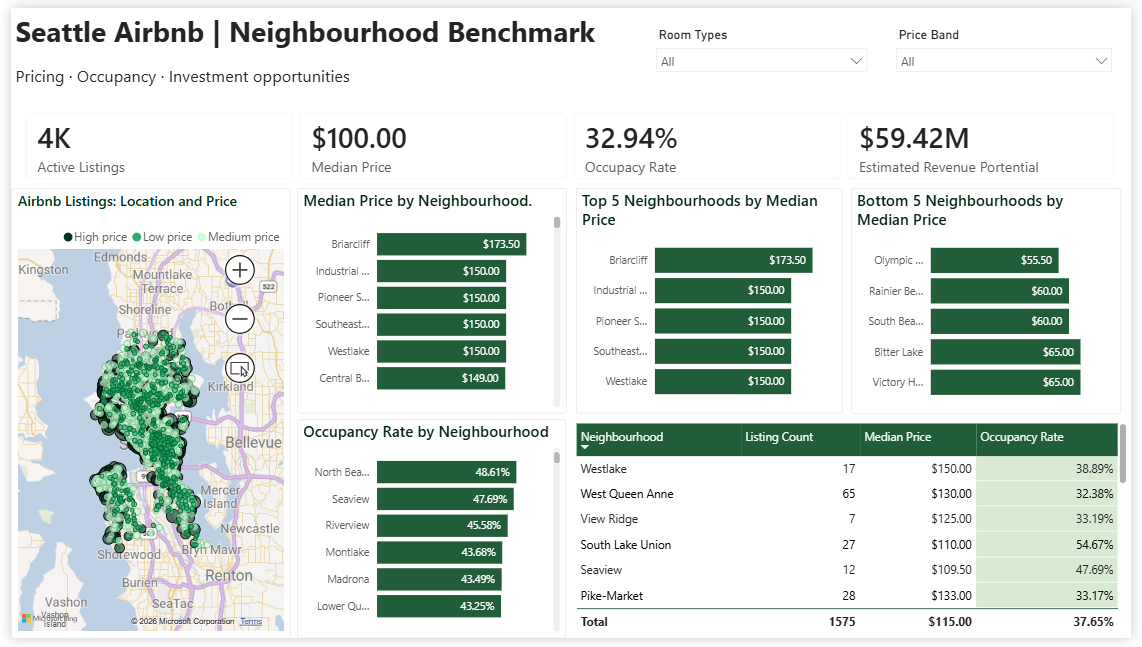

What the dashboard file says about the page in this screenshot:
{"tool":"powerbi","page":{"name":"neighbourhood_benchmark","canvas":[1280,720],"ordinal":0},"visuals":[{"type":"cardVisual","fields":{"Data":["fact_calendar.active_listings","fact_calendar.median_price","fact_calendar.occupancy_rate","fact_calendar.estimated_revenue_potential"]},"box":[0,102.9,1280,110],"z":0},{"type":"clusteredBarChart","title":"Median Price by Neighbourhood.","fields":{"Category":["dim_listing.neighbourhood_cleansed"],"Y":["fact_calendar.median_price"]},"box":[326.9,206.2,307.7,257.7],"z":1000},{"type":"clusteredBarChart","title":"Occupancy Rate by Neighbourhood","fields":{"Category":["dim_listing.neighbourhood_cleansed"],"Y":["fact_calendar.occupancy_rate"]},"box":[327.5,470,307.5,250],"z":2000},{"type":"tableEx","fields":{"Values":["dim_listing.neighbourhood_cleansed","fact_calendar.active_listings","fact_calendar.median_price","fact_calendar.occupancy_rate"]},"box":[640,470,640,250],"z":3000},{"type":"slicer","fields":{"Values":["dim_listing.room_type"]},"box":[727.1,17.1,261.4,67.1],"z":4000},{"type":"slicer","fields":{"Values":["dim_listing.price_band"]},"box":[1001.4,17.1,267.1,67.1],"z":5000},{"type":"textbox","box":[0,0,700,60],"z":6000},{"type":"textbox","box":[0,60,654.3,48.6],"z":7000},{"type":"clusteredBarChart","title":"Top 5 Neighbourhoods by Median Price","fields":{"Category":["dim_listing.neighbourhood_cleansed"],"Y":["fact_calendar.median_price"]},"box":[646.2,205.4,304.6,257.7],"z":8000},{"type":"clusteredBarChart","title":"Bottom 5 Neighbourhoods by Median Price","fields":{"Category":["dim_listing.neighbourhood_cleansed"],"Y":["fact_calendar.median_price"]},"box":[960,205.7,308.6,258.6],"z":9000},{"type":"map","title":"Airbnb Listings: Location and Price","fields":{"X":["dim_listing.longitude"],"Y":["dim_listing.latitude"],"Series":["dim_listing.price_color_group"],"Size":["dim_listing.neighbourhood_median_price"]},"box":[0,205,320,515],"z":9001}]}

Visuals, with their boxes in screenshot pixels (x1, y1, x2, y2), scaled from the page's 1280x720 canvas onto the 1142x647 screenshot:
cardVisual - fact_calendar.active_listings x fact_calendar.median_price: 0:92:1141:191
"Median Price by Neighbourhood." clusteredBarChart: 292:185:566:417
"Occupancy Rate by Neighbourhood" clusteredBarChart: 292:422:567:646
tableEx - dim_listing.neighbourhood_cleansed x fact_calendar.active_listings: 571:422:1141:646
slicer - dim_listing.room_type: 649:15:882:76
slicer - dim_listing.price_band: 893:15:1132:76
textbox: 0:0:625:54
textbox: 0:54:584:98
"Top 5 Neighbourhoods by Median Price" clusteredBarChart: 577:185:848:416
"Bottom 5 Neighbourhoods by Median Price" clusteredBarChart: 856:185:1132:417
"Airbnb Listings: Location and Price" map: 0:184:286:646
